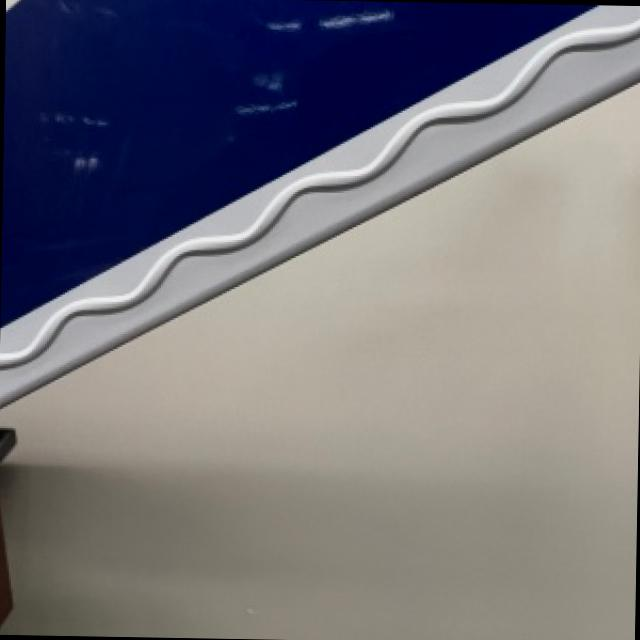healthy: (0, 81, 640, 640)
